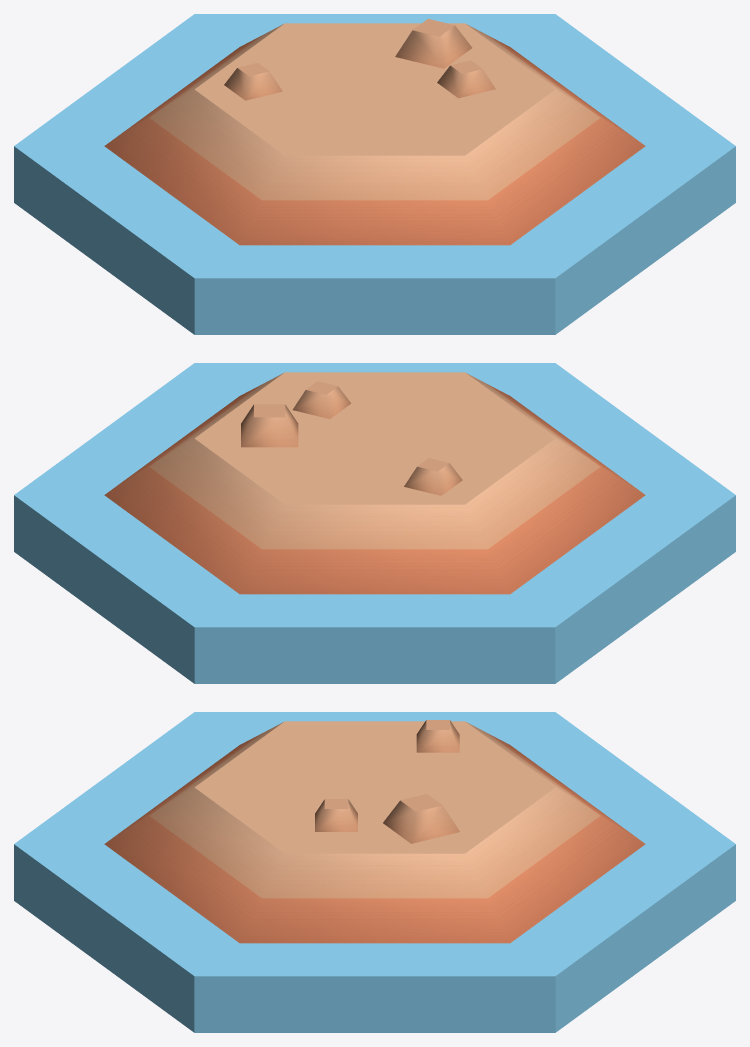
Rendered from water-island.fbx.
3 views of the same model, one above another, from view 1: azimuth 30°, elevation 25°; view 2: azimuth 150°, elevation 25°; view 3: azimuth 270°, elevation 25° (orthographic).
Parts seen in each view (by area): view 1: water_island; view 2: water_island; view 3: water_island.
Boxes of the visible parts, x1,y1,x2,y2 form: water_island: [14, 14, 735, 334]; water_island: [14, 363, 735, 683]; water_island: [14, 712, 735, 1032].
Bounding box in the file's own units: 100 × 24.35 × 115.
1 material, 1 textured.
